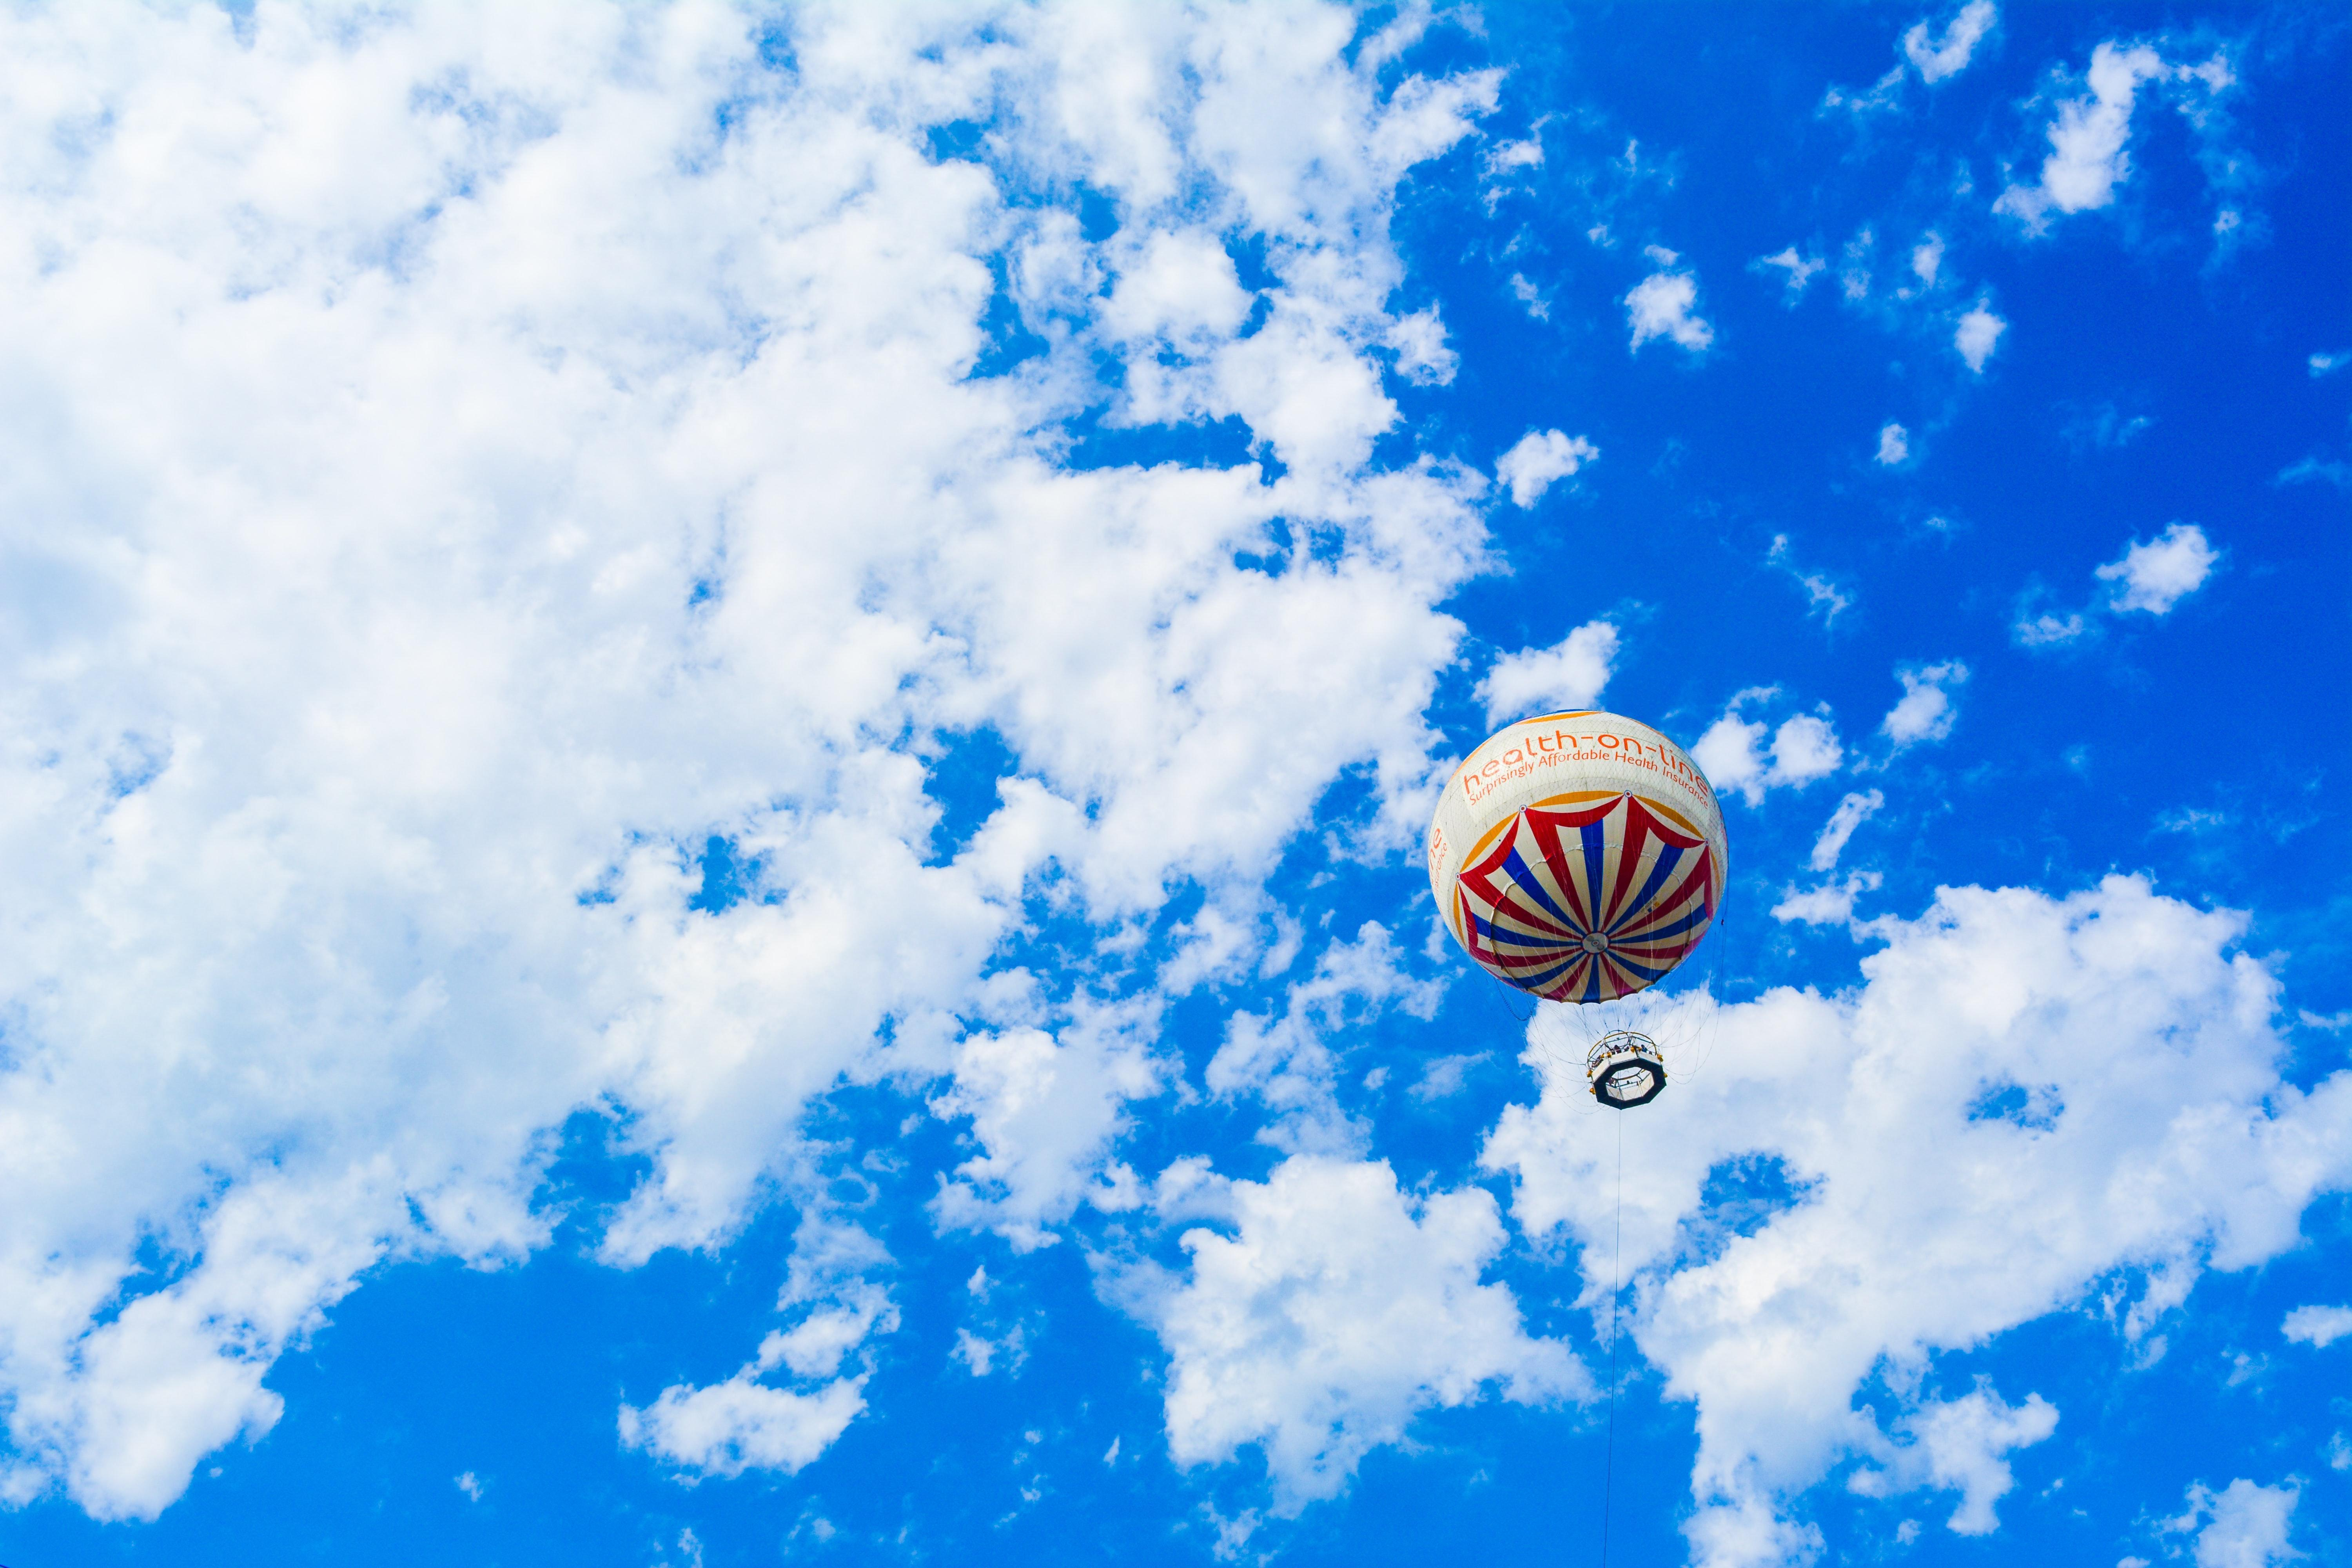hot air ballon: (1418, 693, 1734, 1122)
